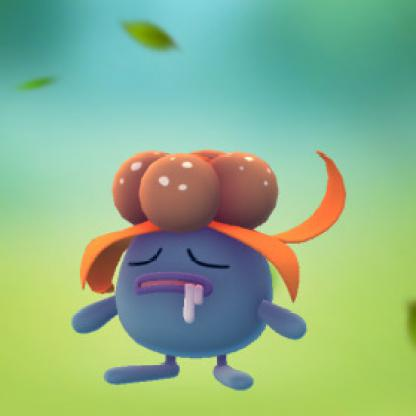Gloom: (67, 135, 348, 394)
